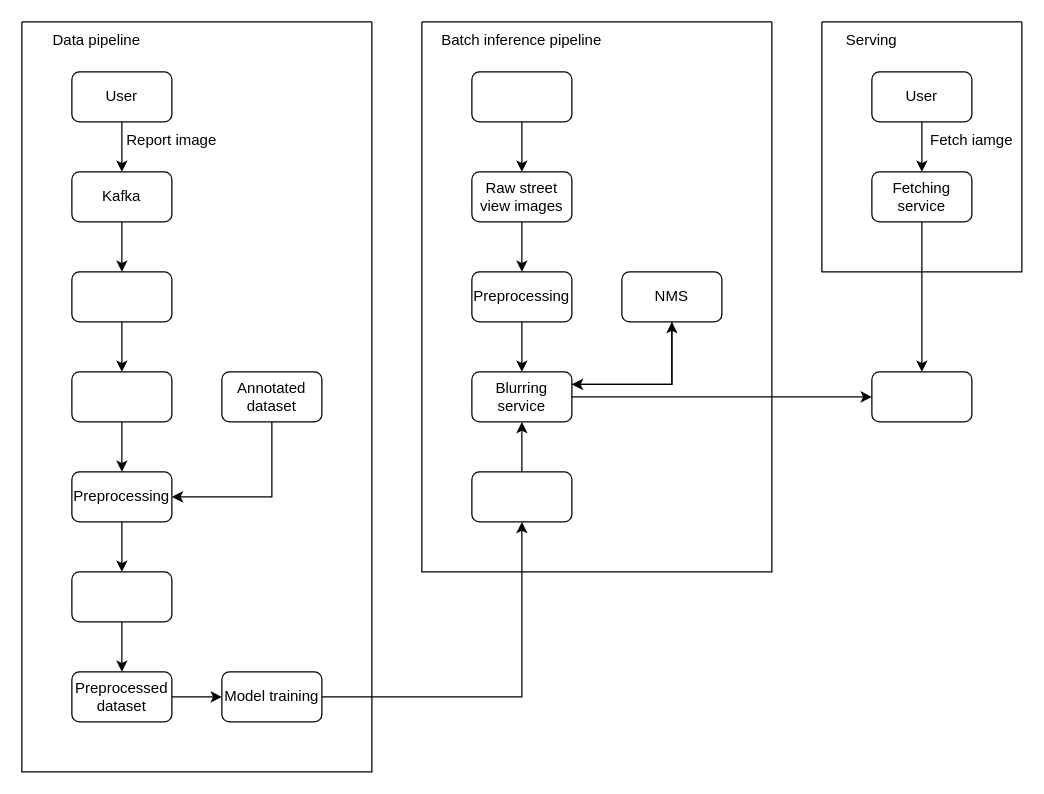
Image size: 1044x794. Some labels were removed from this diagram. The shapes that lost their labels are listed below. From the top down, each one's box as (x1, y1, x2, y2) in pixels, then its label:
(471, 71, 572, 122): Street view data sourcing team
(71, 271, 172, 322): Hard negative mining
(71, 371, 172, 422): Hard negative images
(871, 371, 972, 422): Blurred street view images
(471, 471, 572, 522): ML model
(71, 571, 172, 622): Augmentation
